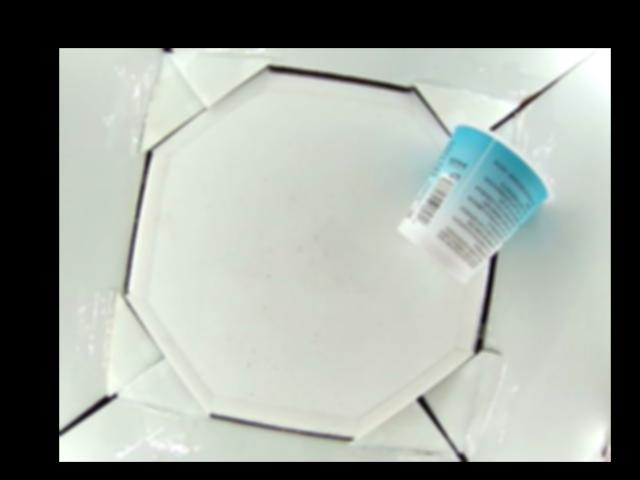Cup: (399, 124, 552, 280)
